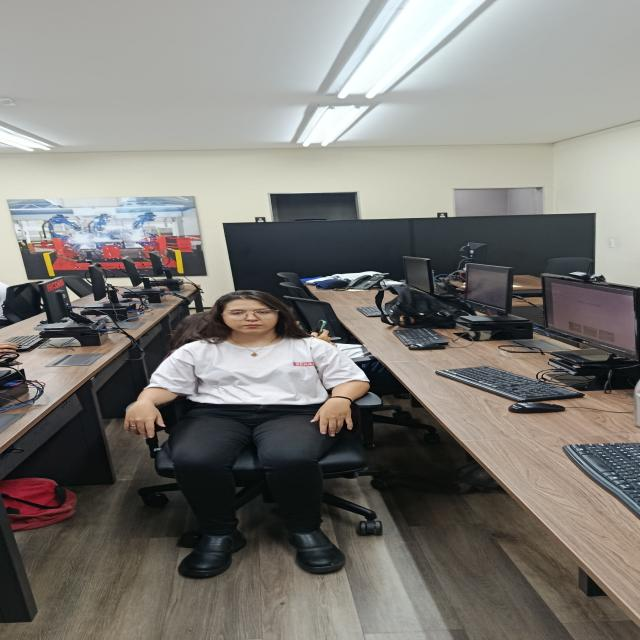sem_oculos: (260, 256, 294, 268), (306, 293, 334, 299), (244, 310, 260, 318)
